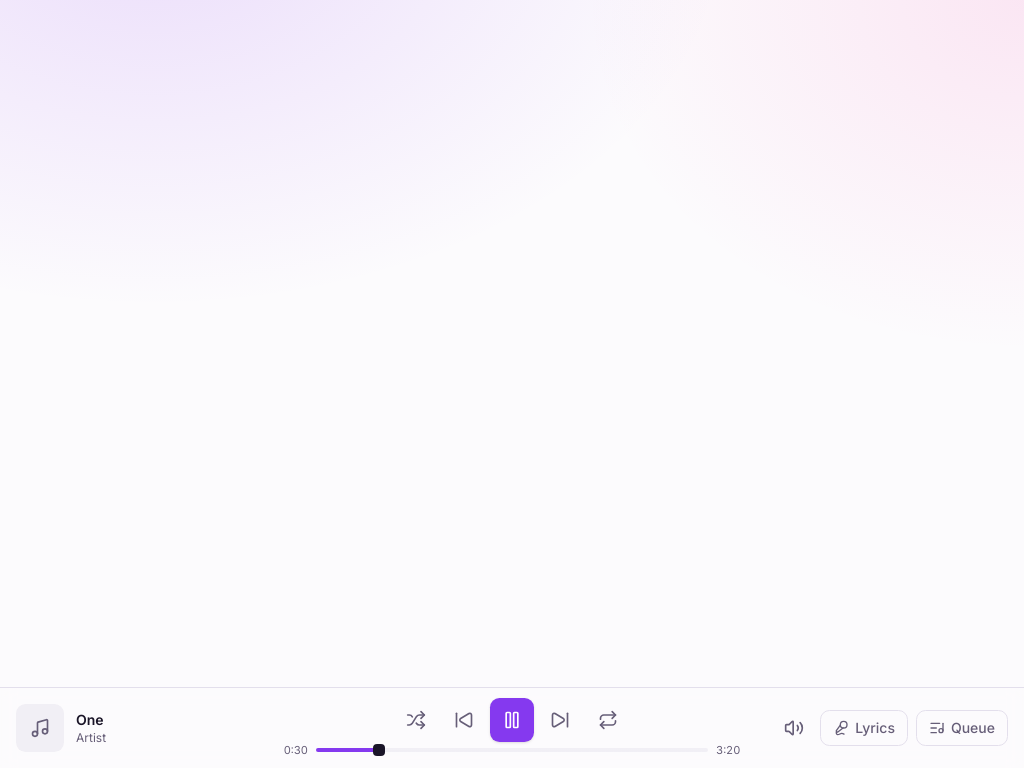
Player › the lyrics panel follows a full playback with the shared lyrics component: current line marked, a line seeks
Step 1. Click the button "Lyrics" → click(864, 728), box [820,710,908,746]
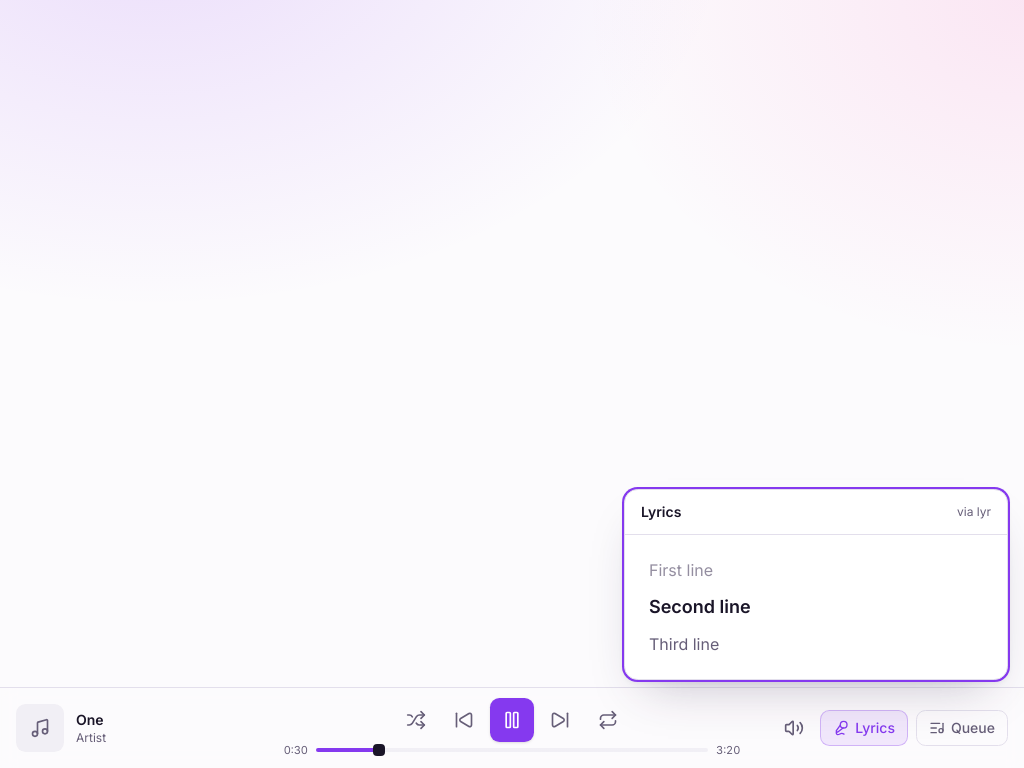
Check: the button "Lyrics" is expanded, box [820,710,908,746]
Step 2. Click the button "Third line" → click(684, 644), box [645,629,987,659]
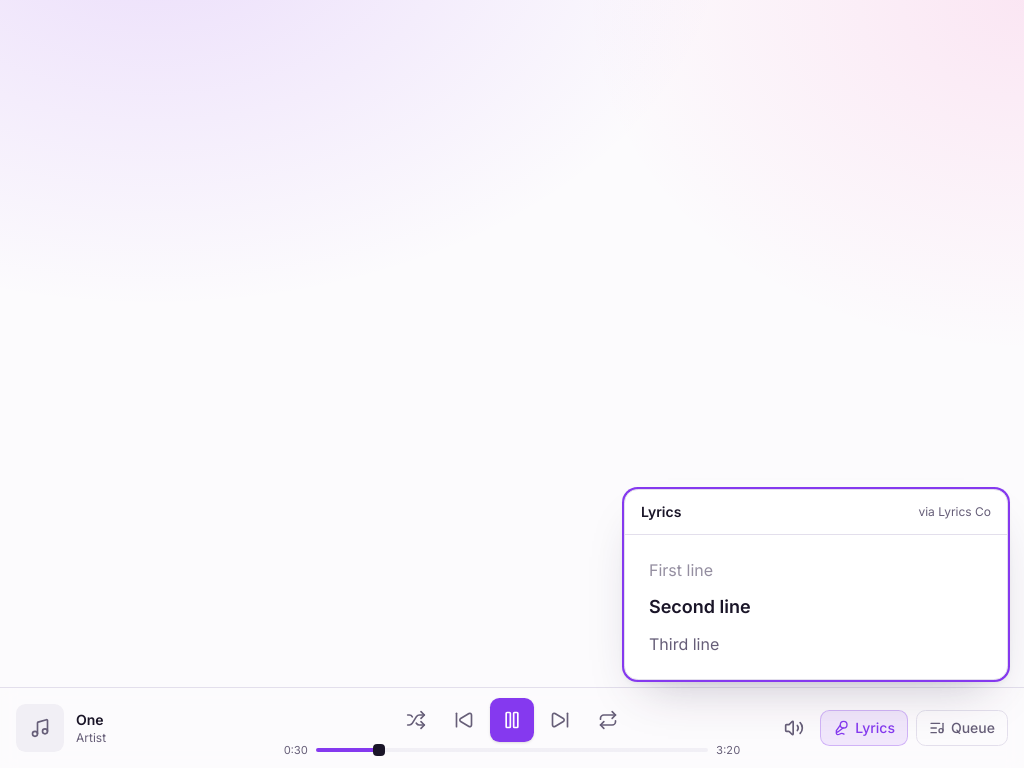
Check: the text "via Lyrics Co" is shown, box [918,504,991,520]
